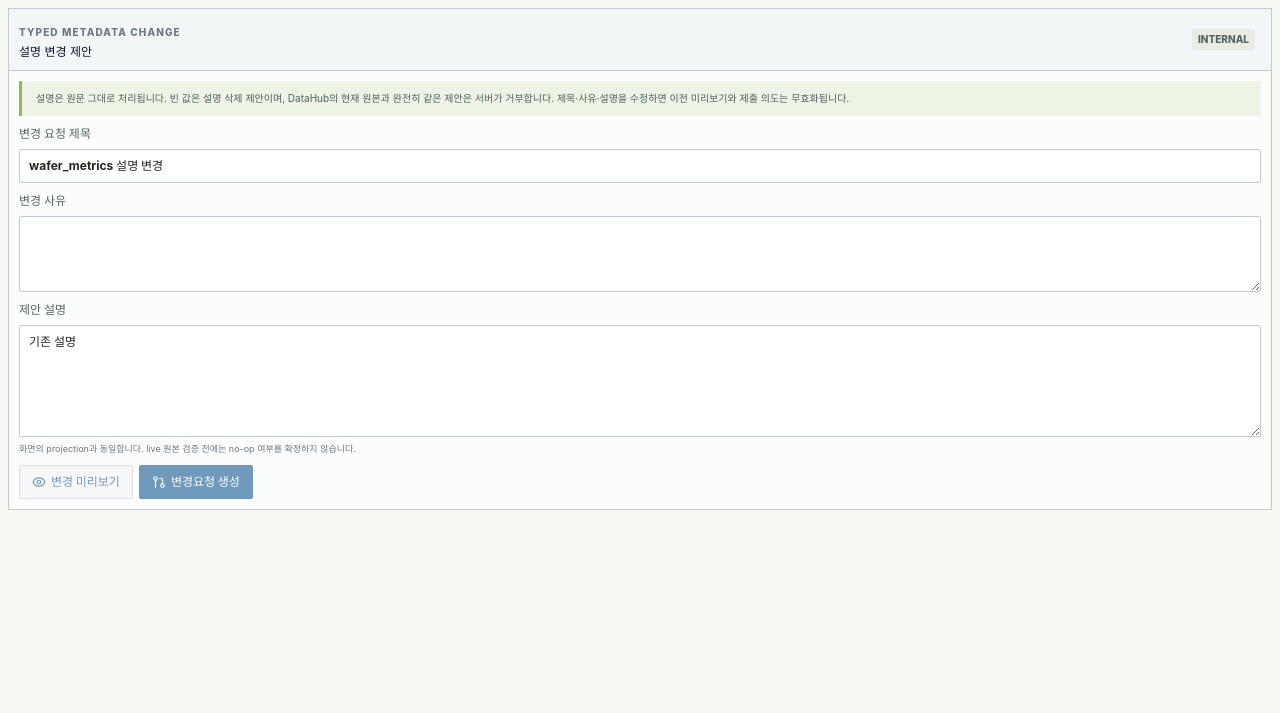
Test case: RegistrationDescriptionEditor › prevents duplicate preview and create requests while each operation is in flight
The image size is (1280, 713).
Type "용어를 명확히 합니다." into the text box labelled "변경 사유" at (640, 254), box 19,216 -> 1261,292
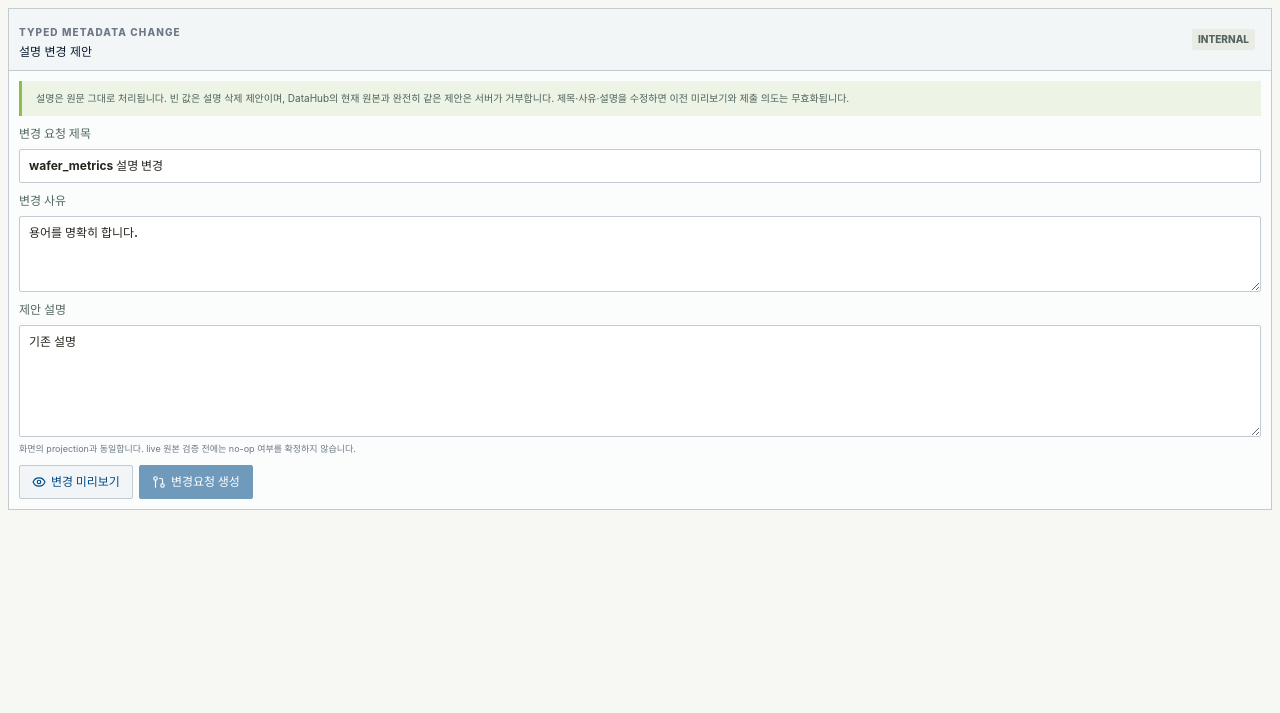
Replace the text in the text box labelled "제안 설명" with "새 설명" at (640, 381), box 19,325 -> 1261,437
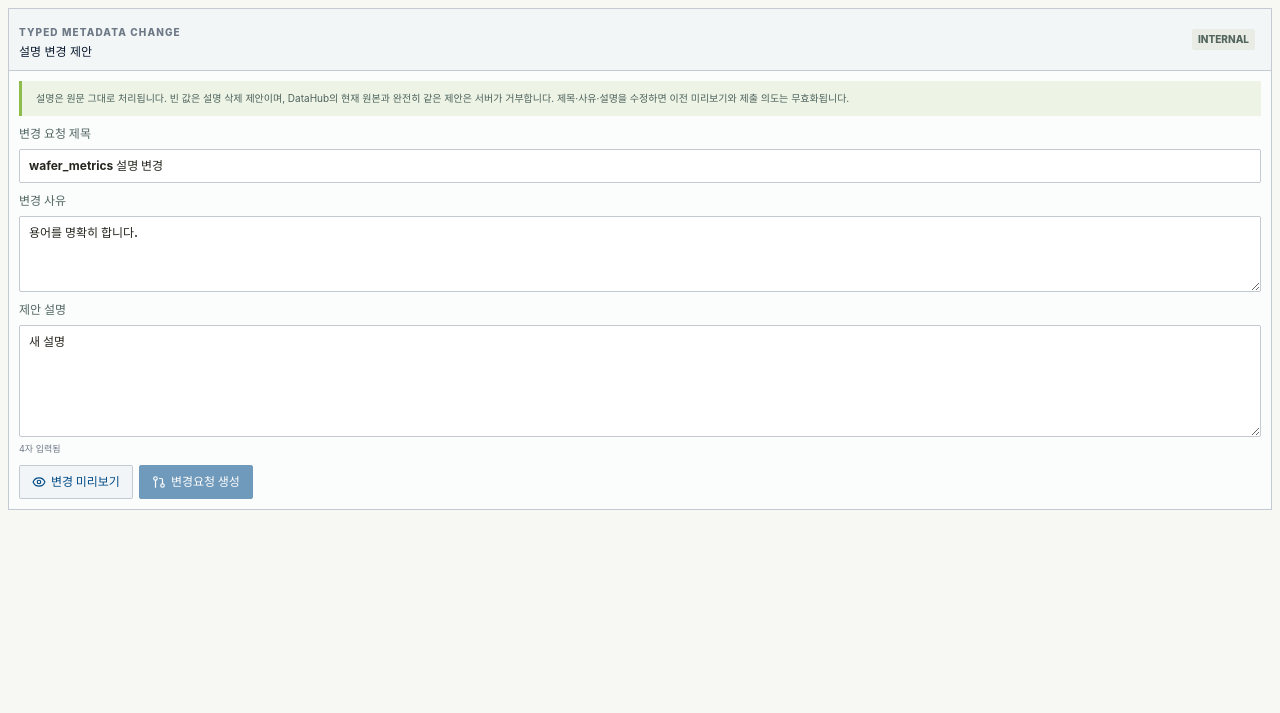
Click the button "변경 미리보기" at (76, 482), box 19,464 -> 133,498
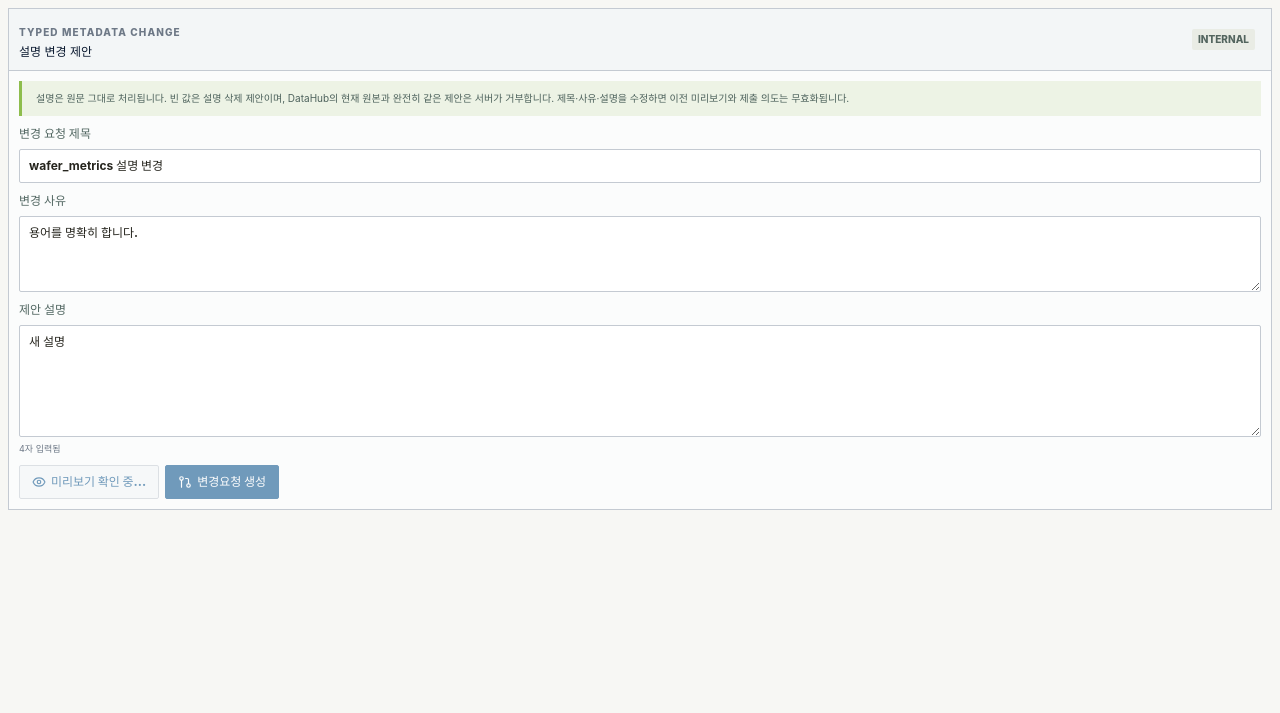
Click the button named "변경 미리보기" at (89, 482), box 19,464 -> 159,498
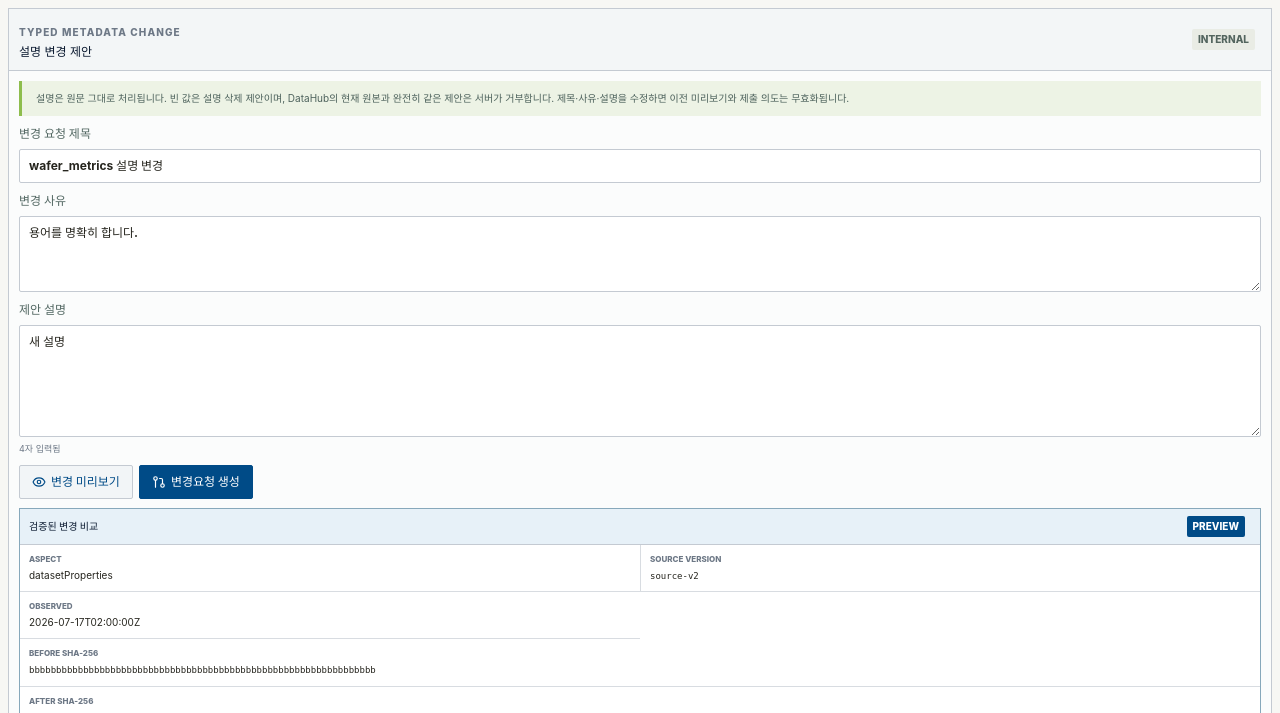
Click the button "변경요청 생성" at (196, 482), box 139,464 -> 253,498
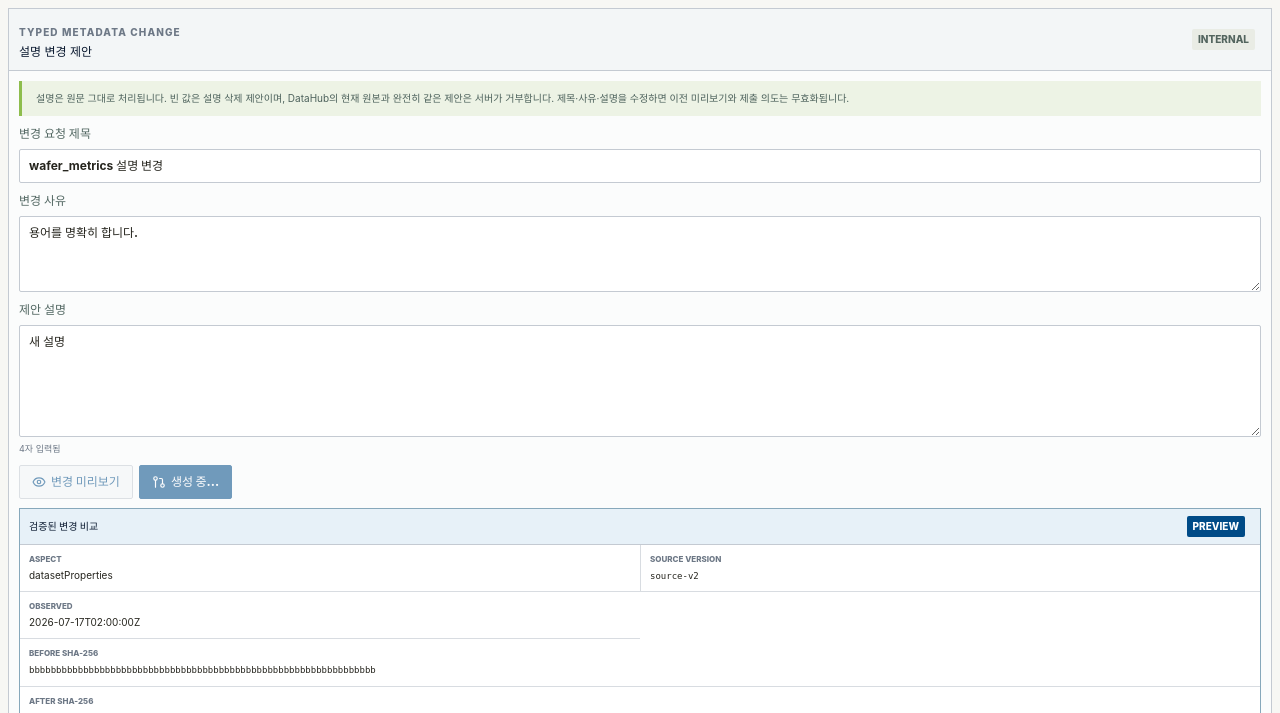
Click the button named "변경요청 생성" at (186, 482), box 139,464 -> 232,498
(page scrolled)
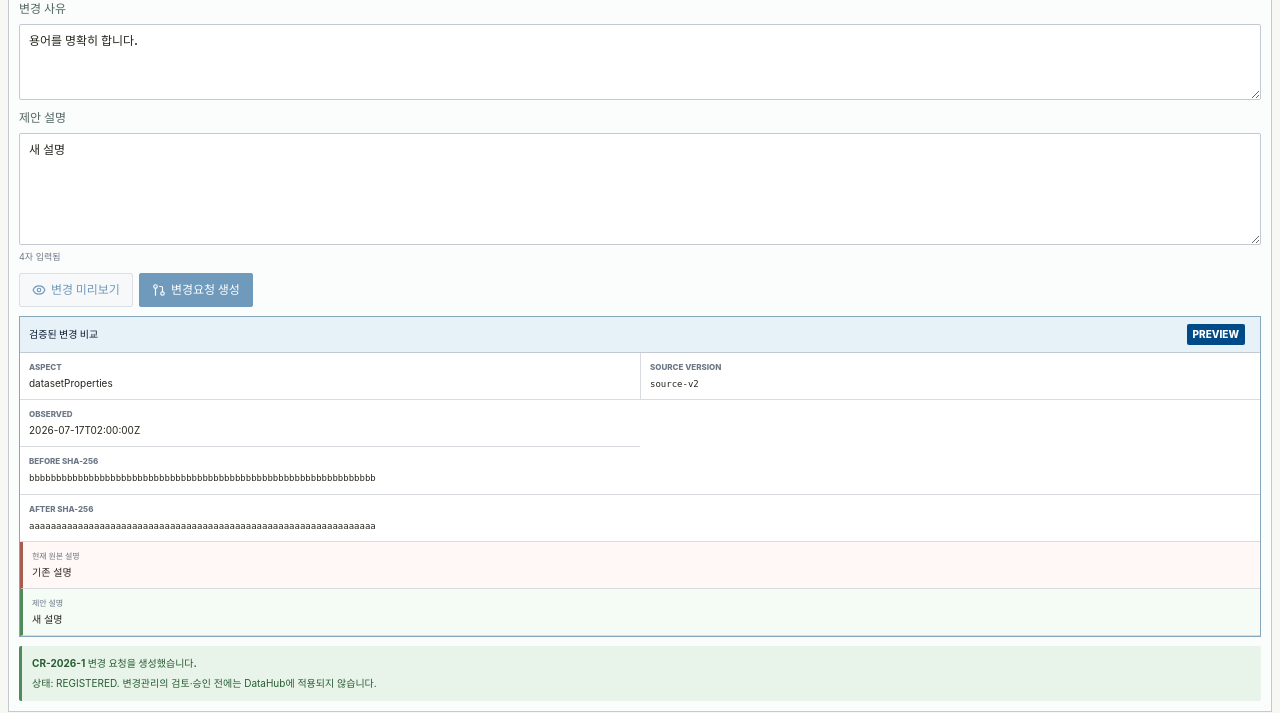
Check: the button named "생성 중…" is disabled, box 139,272 -> 253,306
Check: the text "CR-2026-1 변경 요청을 생성했습니다." is shown, box 32,657 -> 197,669
